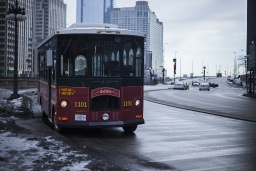bus: (31, 23, 149, 139)
